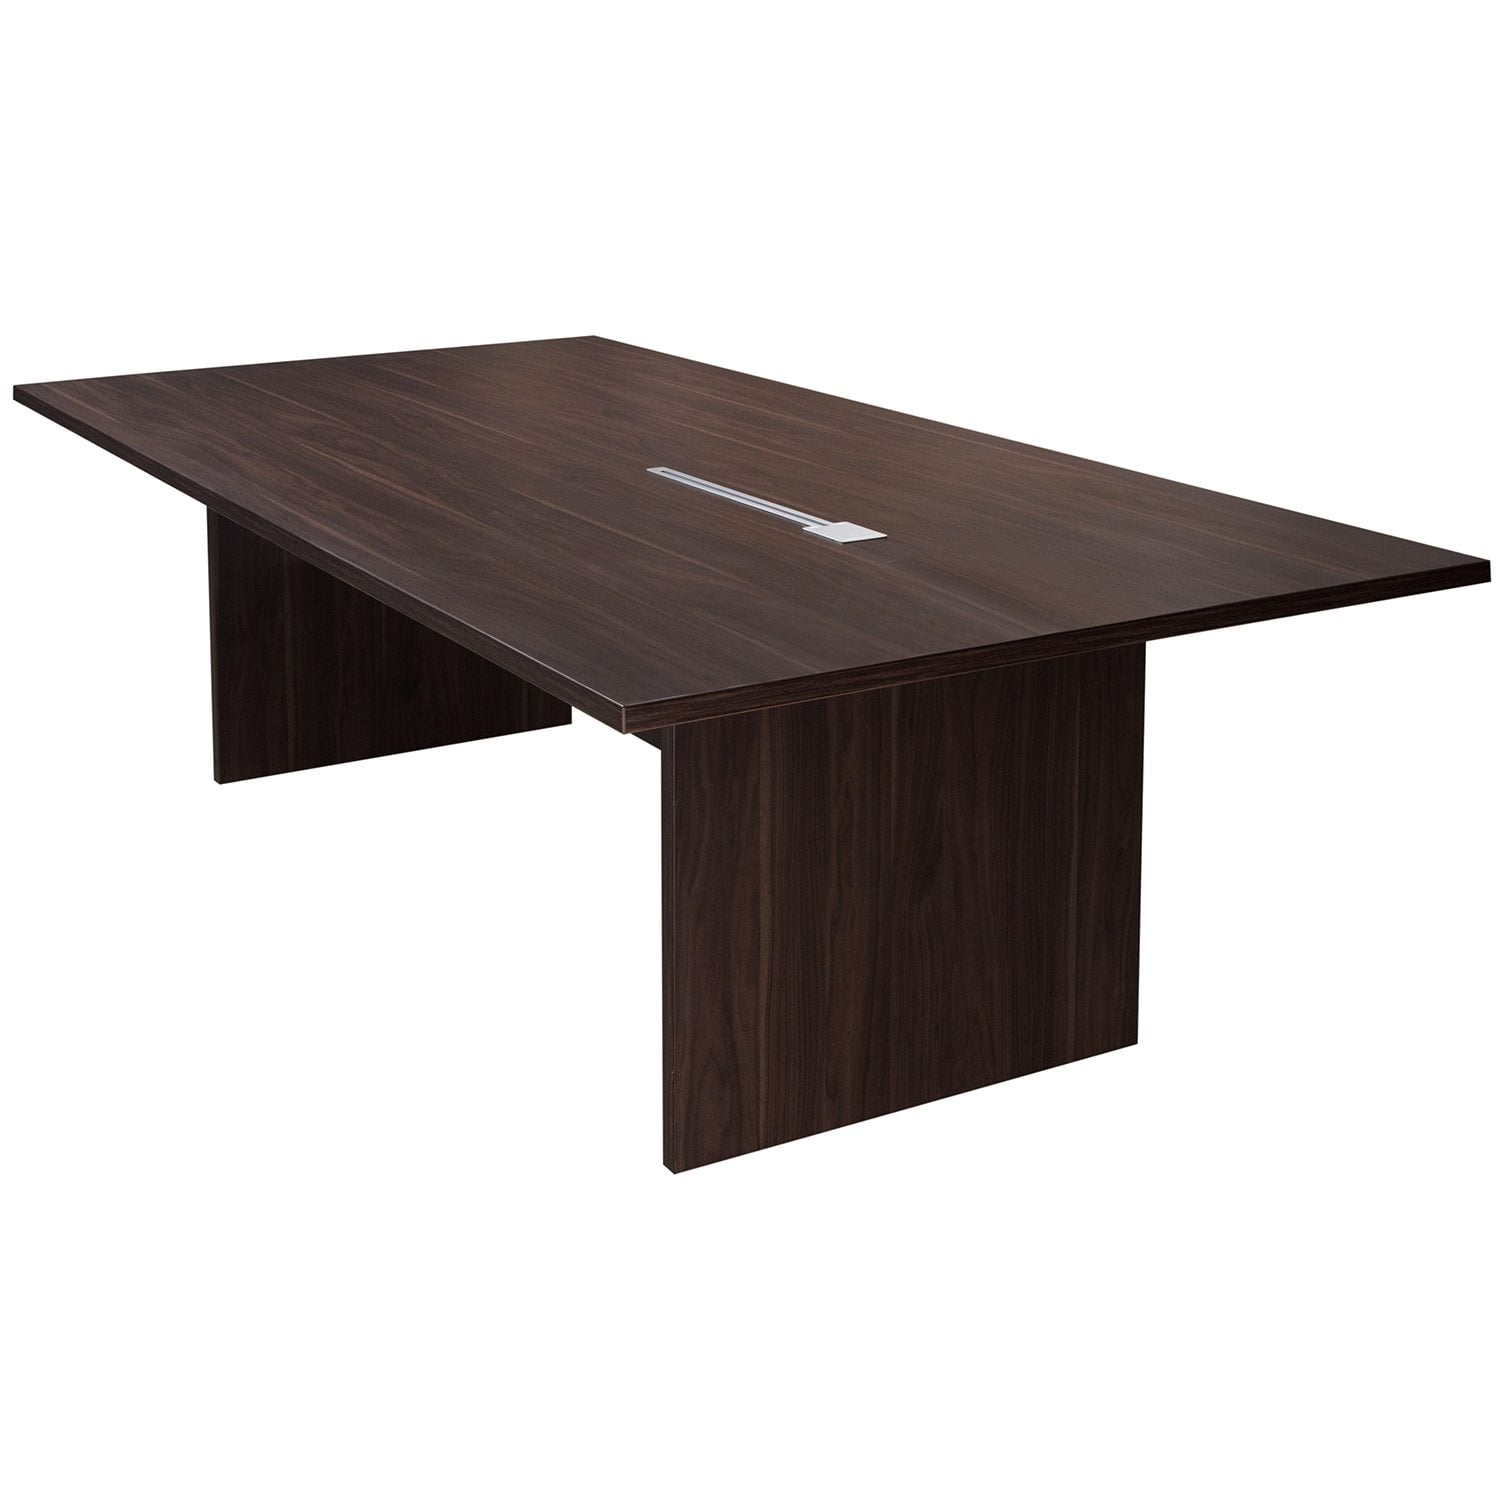conference_table: (14, 331, 1486, 1173)
